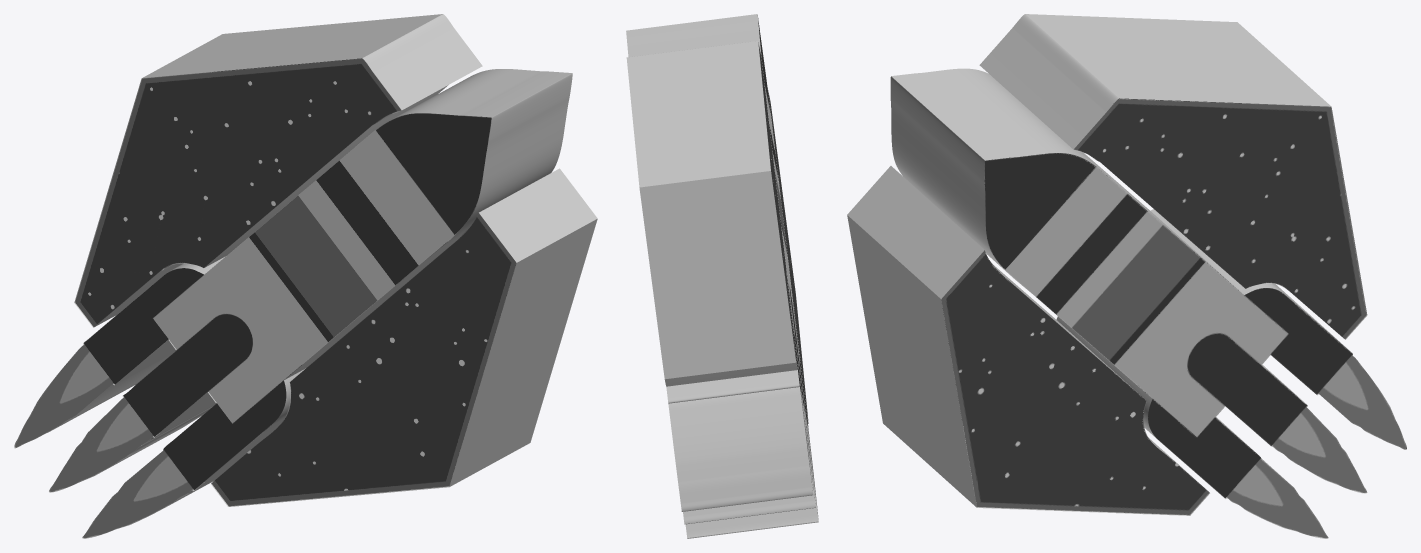
The model's file is Слой 0 копия 2.dae.
The picture shows the model from 3 angles, left to right: view 1: azimuth 30°, elevation 25°; view 2: azimuth 150°, elevation 25°; view 3: azimuth 270°, elevation 25°; orthographic projection. The views are drawn at different scales.
Visible parts, largest first — view 1: Слой_0; view 2: Слой_0; view 3: Слой_0.
Boxes of the visible parts, x1,y1,x2,y2 form: Слой_0: (14, 14, 597, 538); Слой_0: (626, 14, 818, 538); Слой_0: (847, 14, 1406, 538).
Size of what is drawn, in the model's own units: 1920 by 2397 by 2204.
